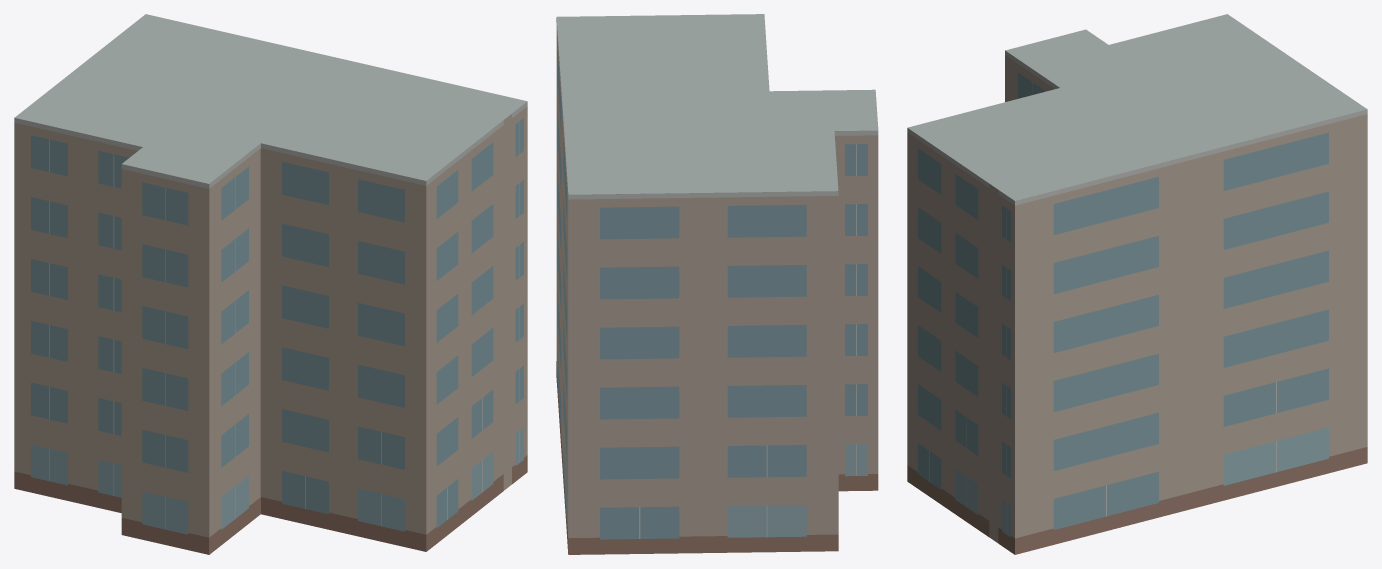
File: survey-upis-33029501.glb
3 renders of one model, left to right at view 1: azimuth 30°, elevation 25°; view 2: azimuth 150°, elevation 25°; view 3: azimuth 270°, elevation 25°, orthographic. The views are drawn at different scales.
Visible parts, largest first — view 1: survey-upis-33029501.tmp; view 2: survey-upis-33029501.tmp; view 3: survey-upis-33029501.tmp.
Boxes of the visible parts, x1,y1,x2,y2 form: survey-upis-33029501.tmp: (14, 14, 527, 554); survey-upis-33029501.tmp: (556, 14, 878, 554); survey-upis-33029501.tmp: (907, 14, 1367, 554).
Size of the model in its own units: 21.04 by 18.55 by 21.88.
